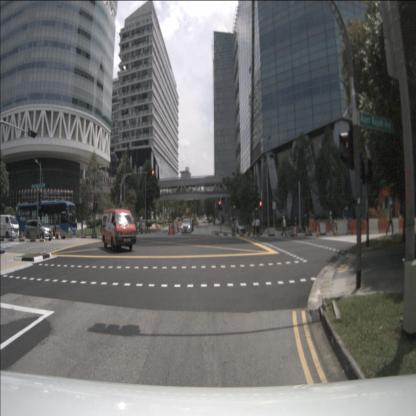human-pedestrian-adult: (256, 216, 260, 237), (253, 216, 256, 236), (80, 221, 84, 235)
movable_object-barrier: (350, 219, 366, 234), (378, 218, 390, 233), (366, 219, 378, 234), (388, 218, 399, 233), (336, 220, 348, 233), (399, 218, 409, 233), (312, 223, 320, 233), (320, 223, 326, 233), (325, 223, 330, 232), (174, 224, 178, 233), (172, 224, 175, 234), (177, 224, 179, 233)
movable_object-trafficcone: (168, 224, 172, 235), (20, 231, 24, 240), (316, 226, 319, 237), (294, 227, 297, 238), (334, 226, 337, 236), (306, 226, 308, 235)
vehicle-bus-rigid: (16, 199, 78, 240)
vehicle-car: (101, 209, 137, 251), (24, 219, 53, 240), (0, 214, 20, 239), (231, 220, 247, 235), (181, 218, 192, 234), (215, 218, 221, 226)
